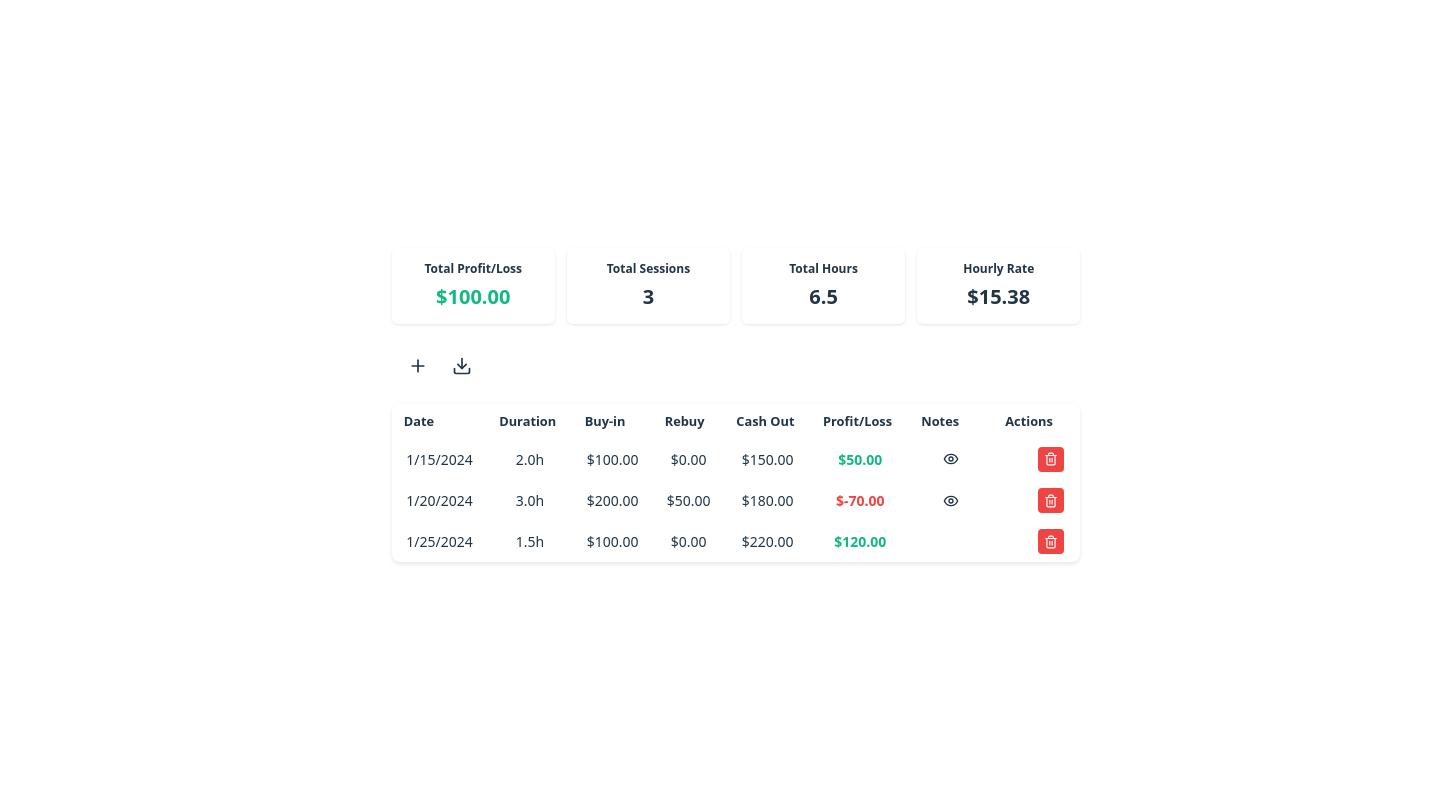
it: Dashboard › closes SessionForm when cancel is clicked
The image size is (1440, 810).
# Open form
Click the button named "Add Session" at (418, 366), box [400,348,436,384]
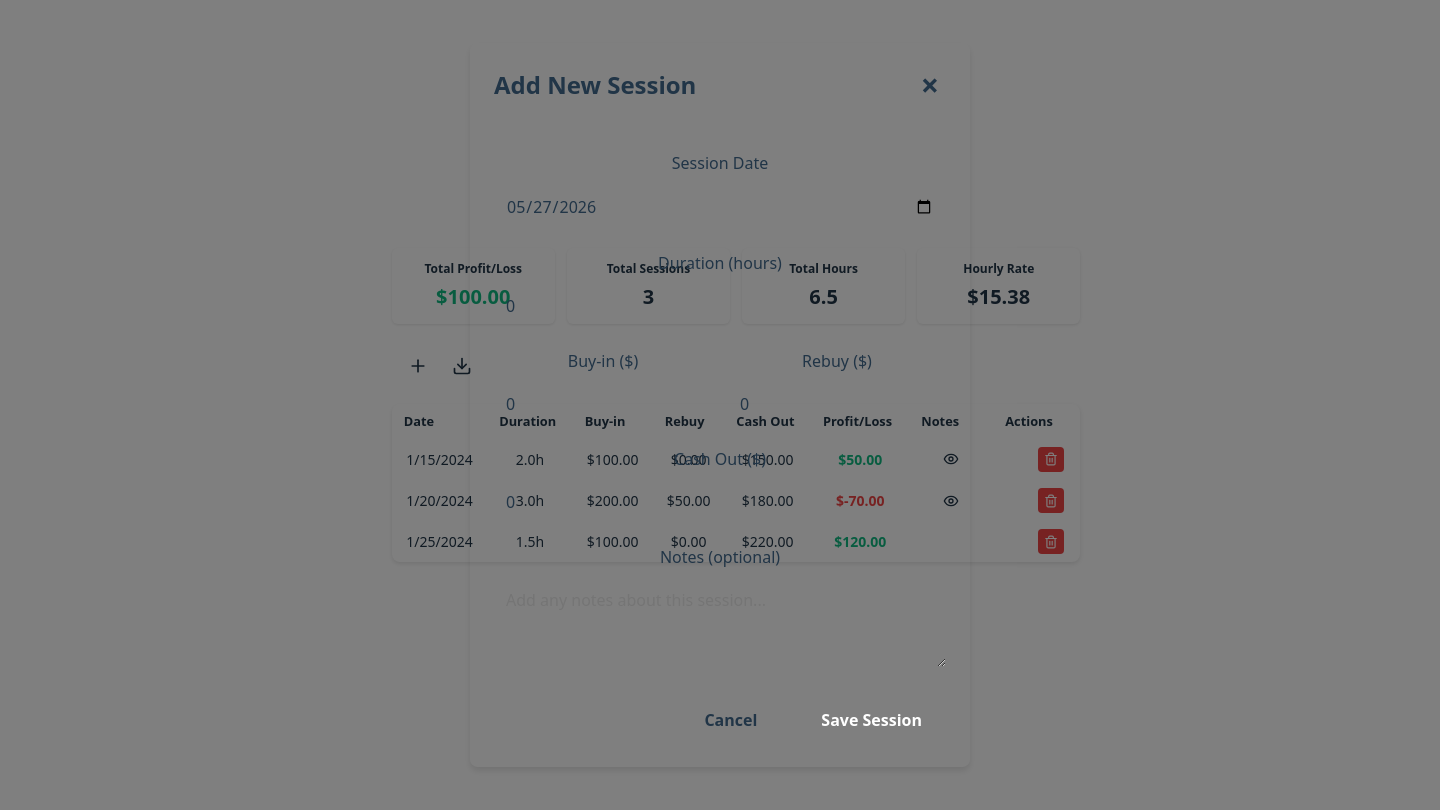
Result: the heading "Add New Session" is shown at [494,67,696,103]
# Cancel form
Click the button "Cancel" at (731, 720), box [680,697,781,743]
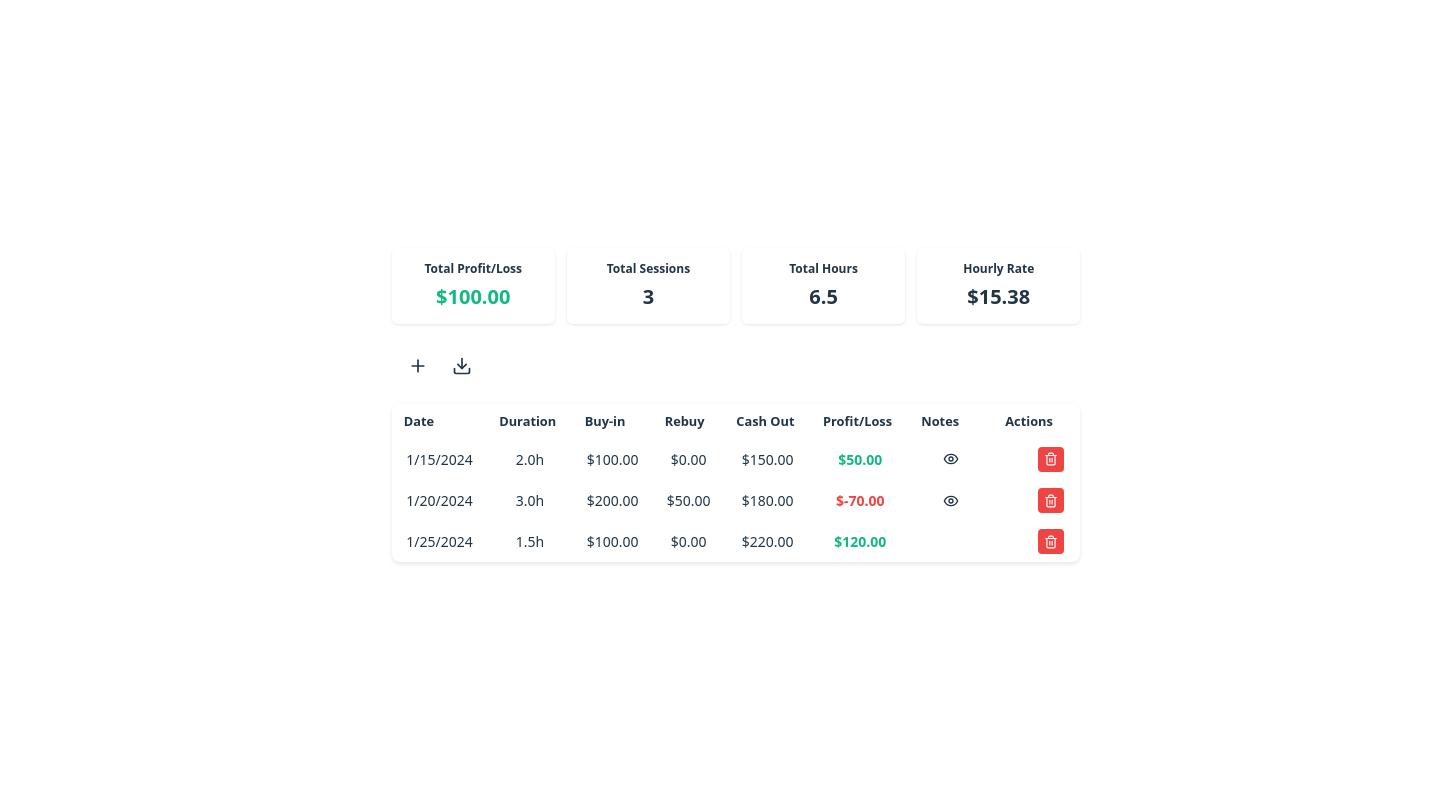
Result: the heading "Add New Session" is gone
